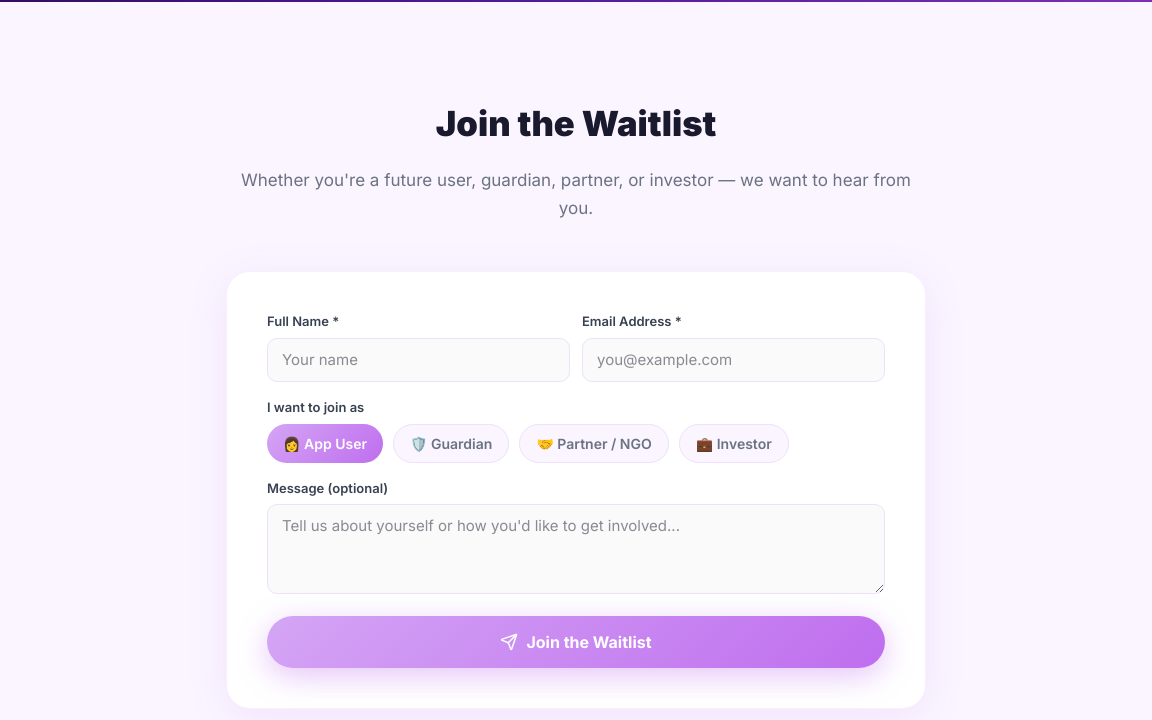
Test: Waitlist page › registers the signup and confirms it
This screenshot has width=1152, height=720.
(page scrolled)
In the field with placeholder "Your name": (418, 360) [267,338,570,382], type "Grace"
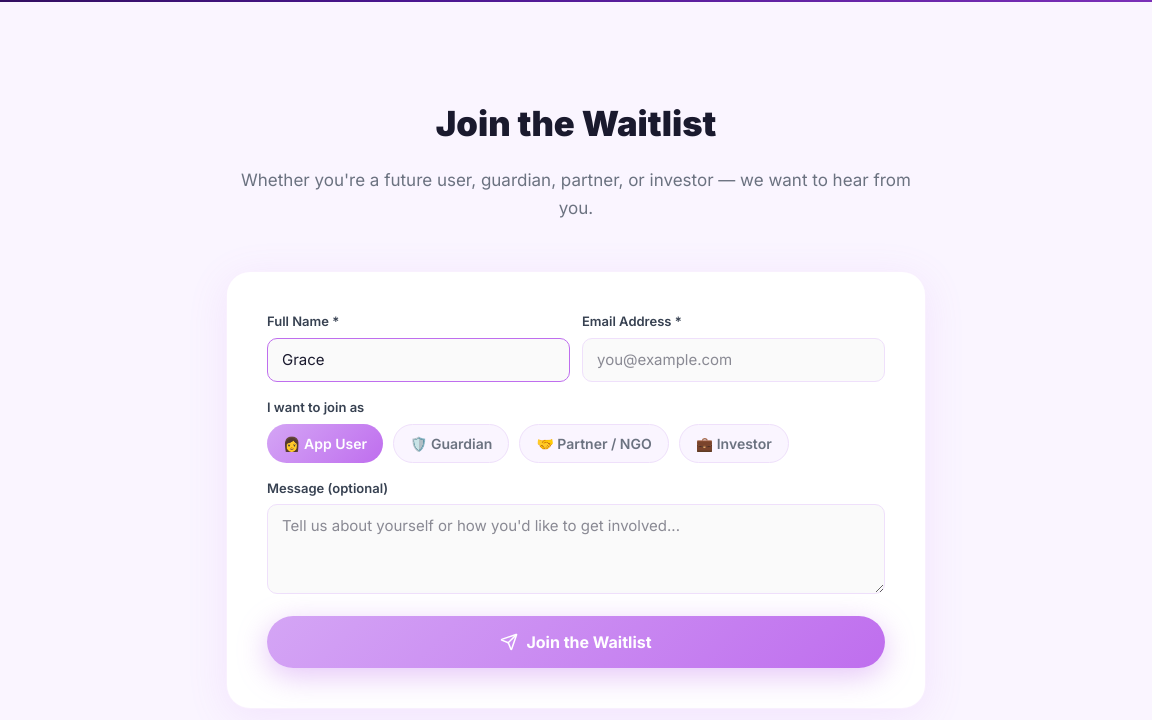
In the field with placeholder "you@example.com": (734, 360) [582,338,885,382], type "grace@example.com"
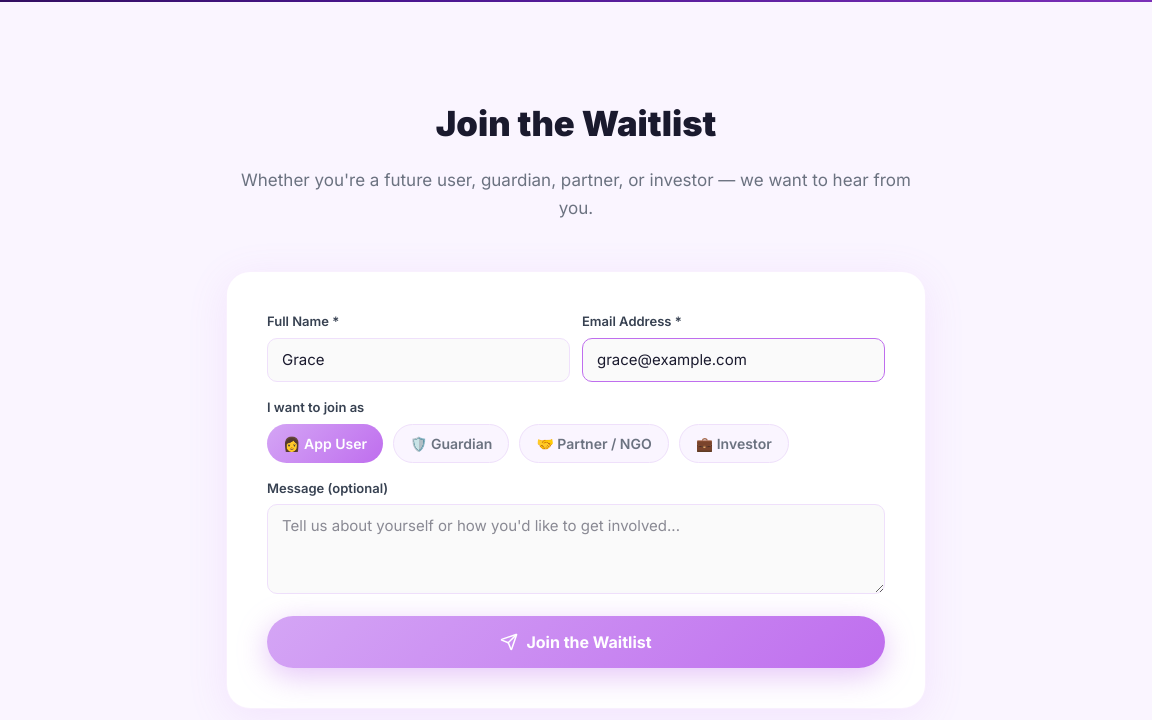
Click the button "Join the Waitlist": (576, 642) [267,616,885,668]
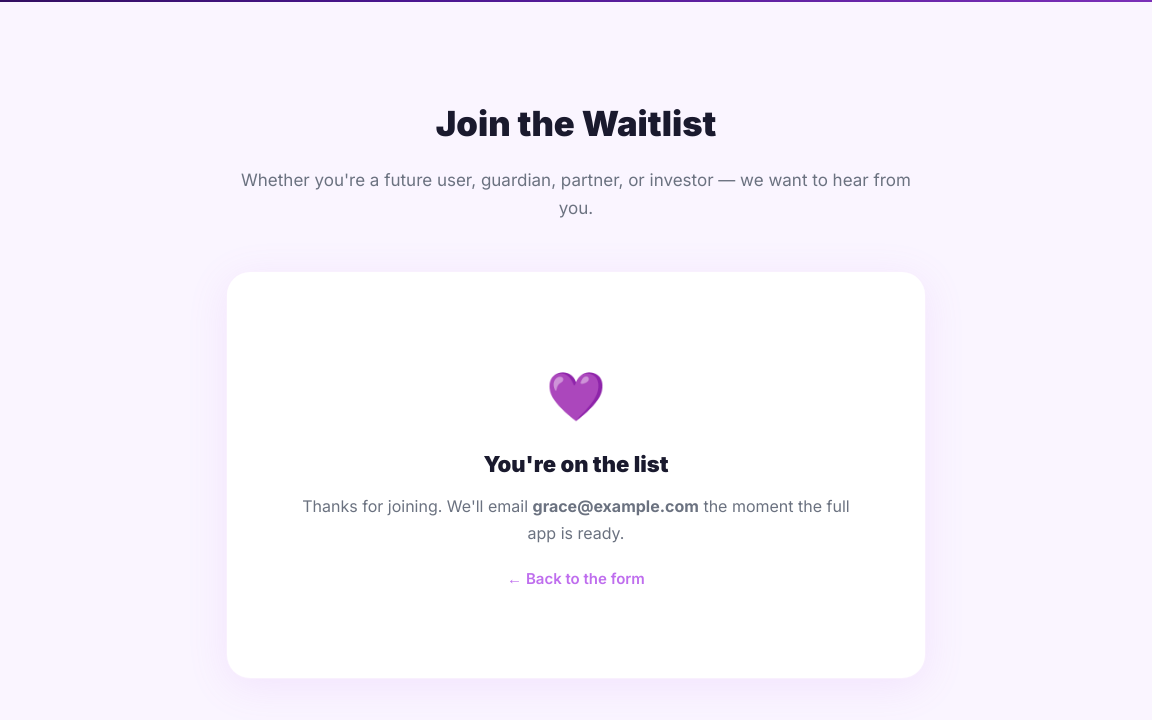
expect the heading "You're on the list" is shown: met, box [484,451,668,477]
expect the text "grace@example.com" is shown: met, box [532,496,699,516]
